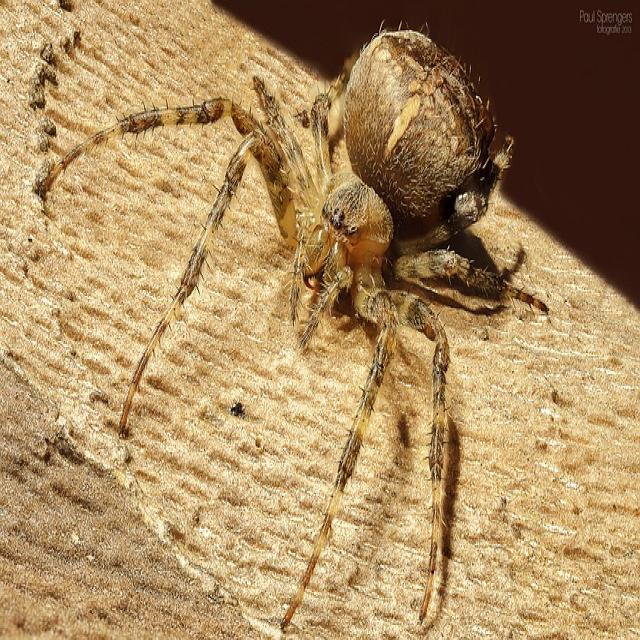spyder: (35, 32, 548, 628)
